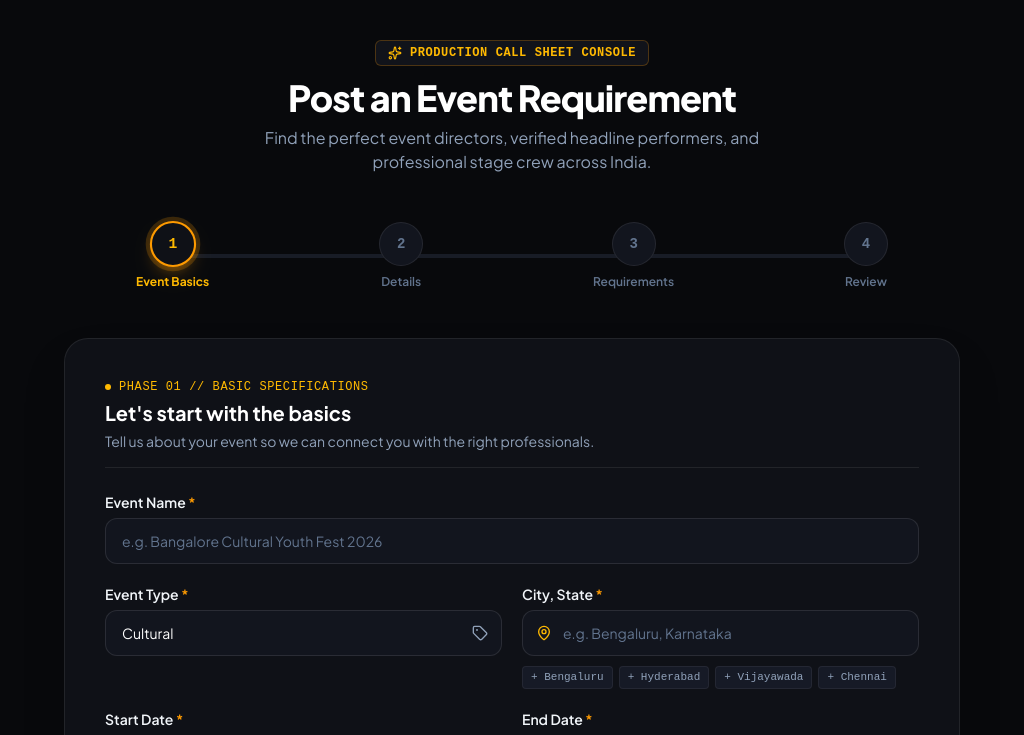
GoPratle 4-Step Requirement Wizard Tests › should validate that end date cannot be earlier than start date
In the field with placeholder "e.g. Bangalore Cultural Youth Fest 2026": (512,541) [105,518,919,564], type "Hyderabad Tech Summit"
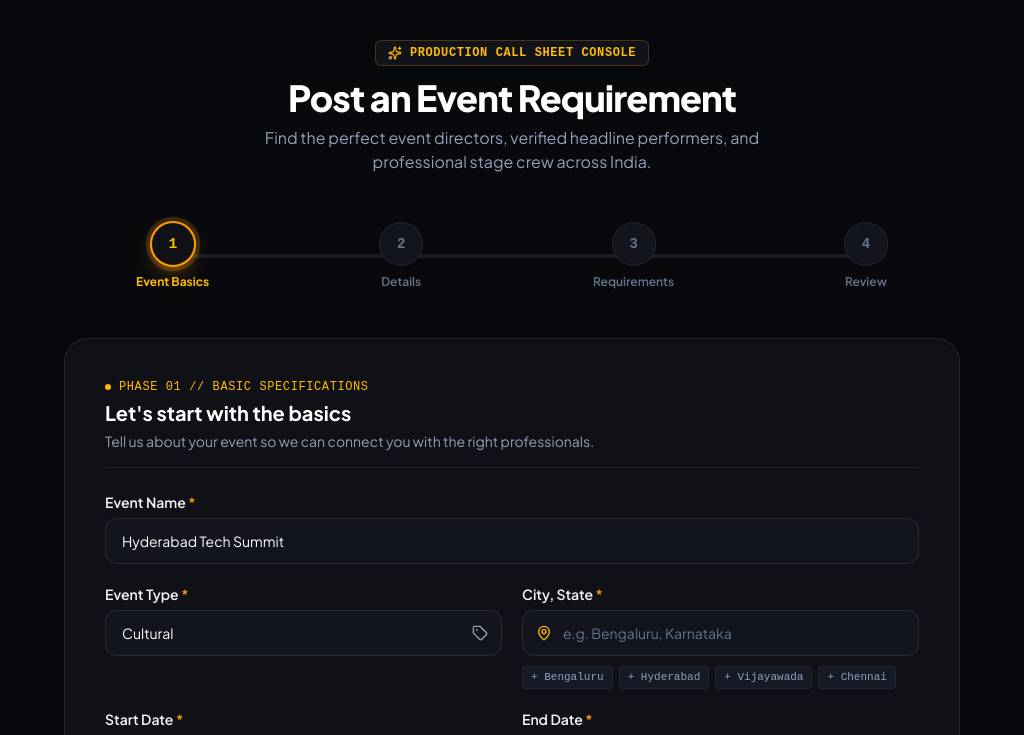
In the field with placeholder "e.g. Bengaluru, Karnataka": (720,633) [522,610,919,656], type "Hyderabad, Telangana"
(page scrolled)
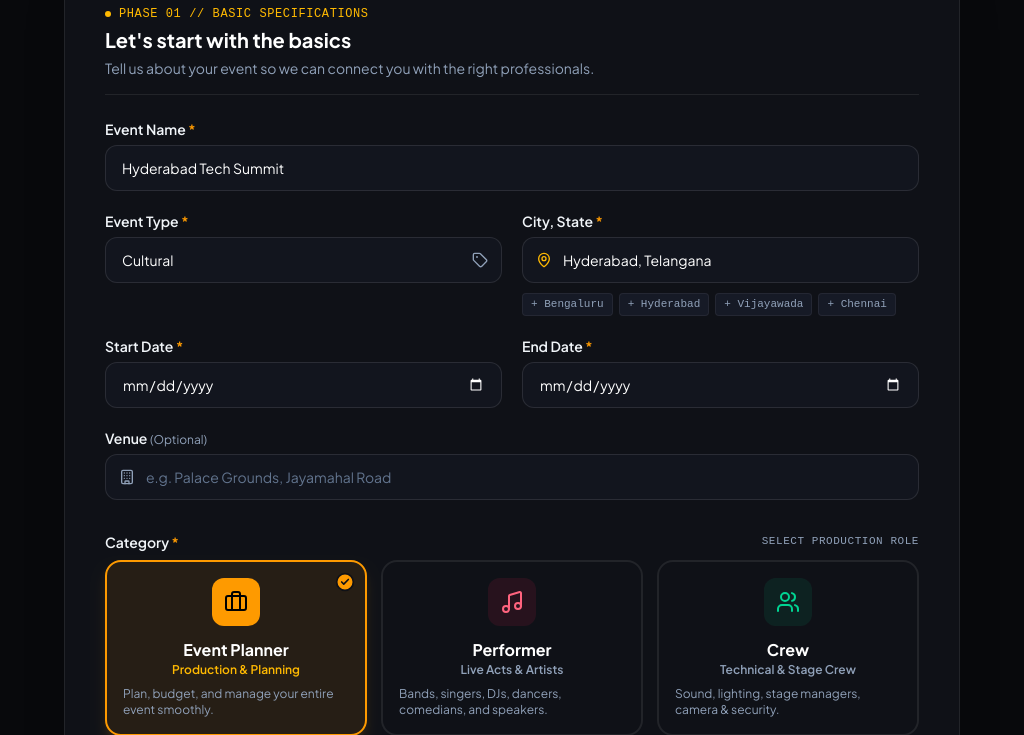
Start date: 2026-11-20
In the date field below "Start Date": (304,384) [105,362,502,408], type "2026-11-20"
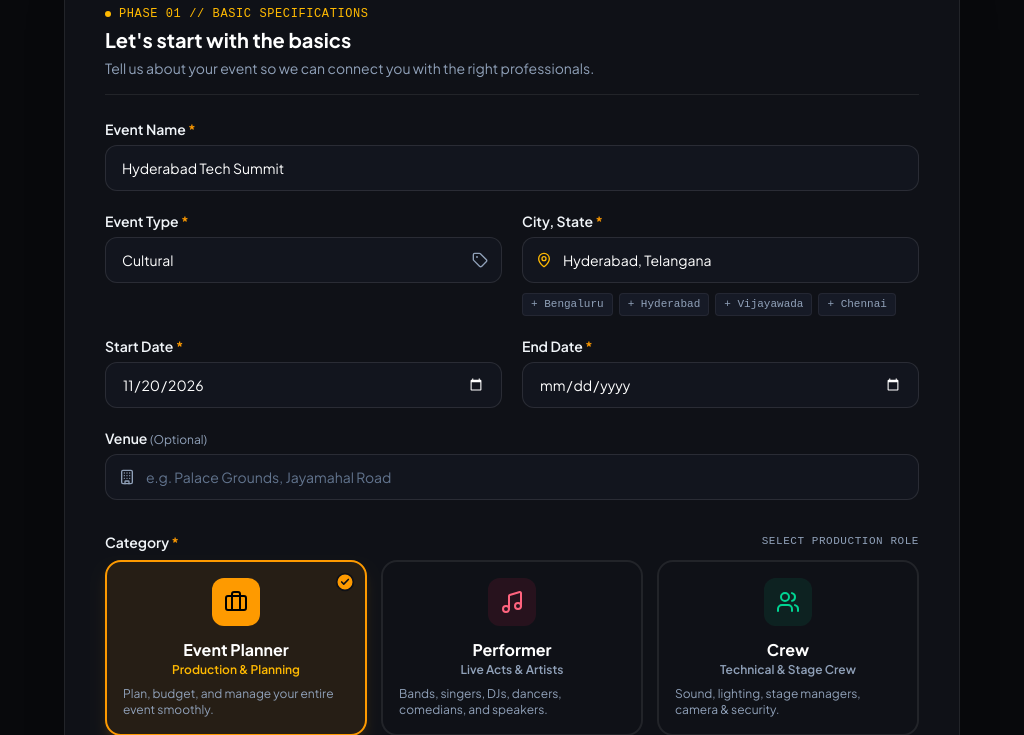
End date: 2026-11-15
In the date field below "End Date": (720,384) [522,362,919,408], type "2026-11-15"
(page scrolled)
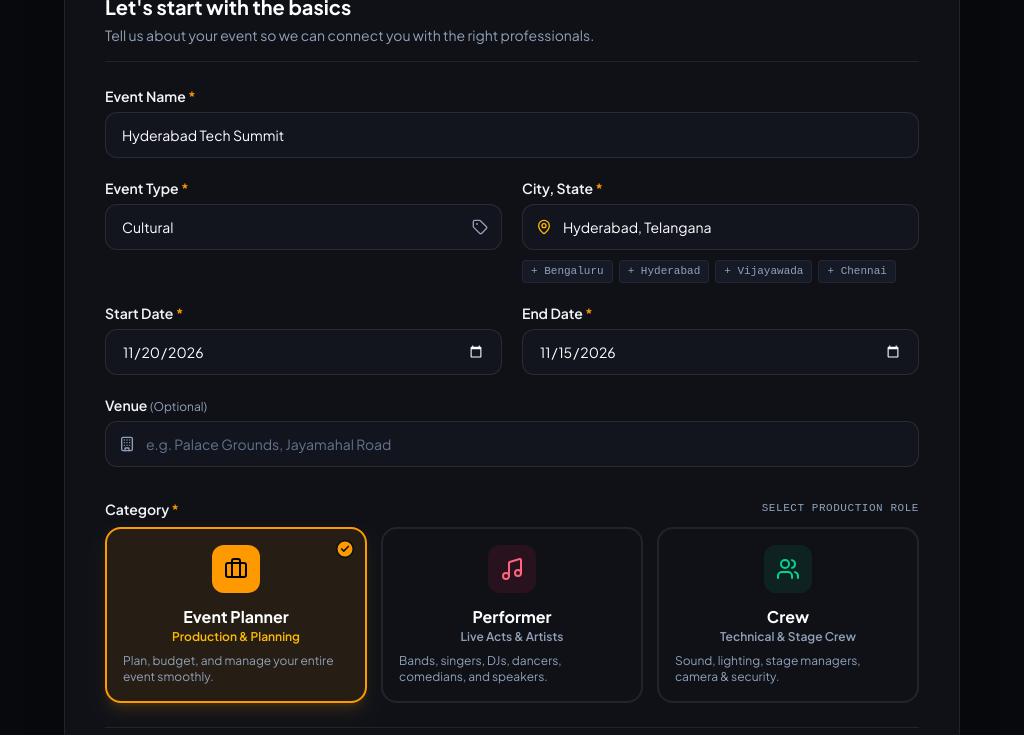
Submit the text "Next: Category Details"
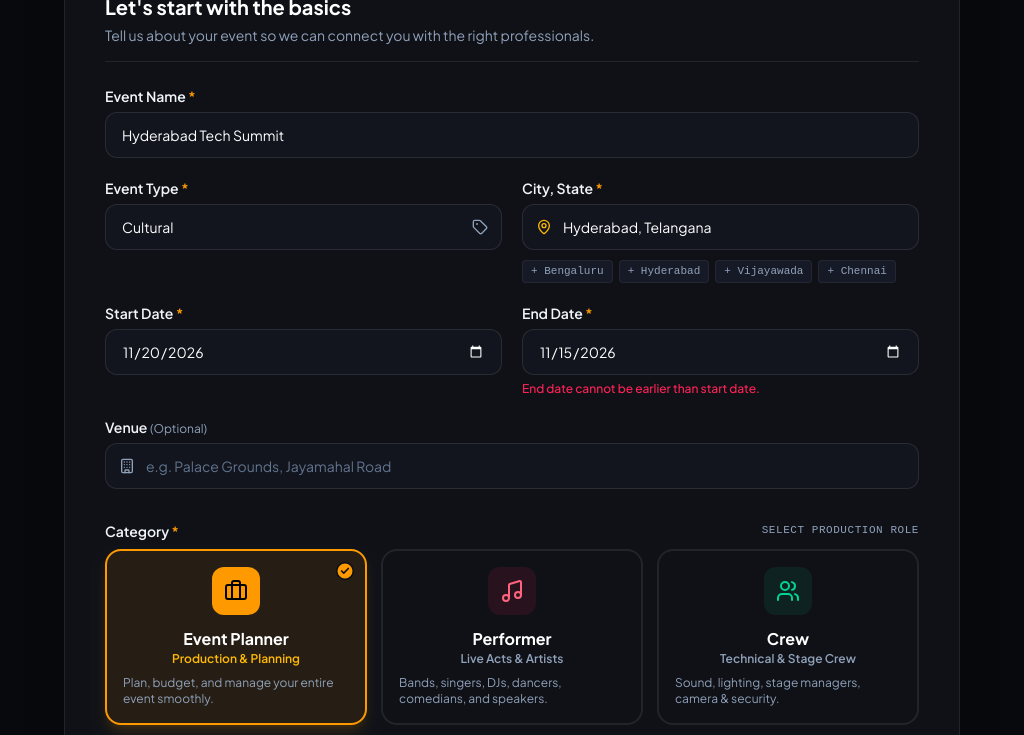
Result: the text "End date cannot be earlier than start date." is shown at [522,380,760,396]
